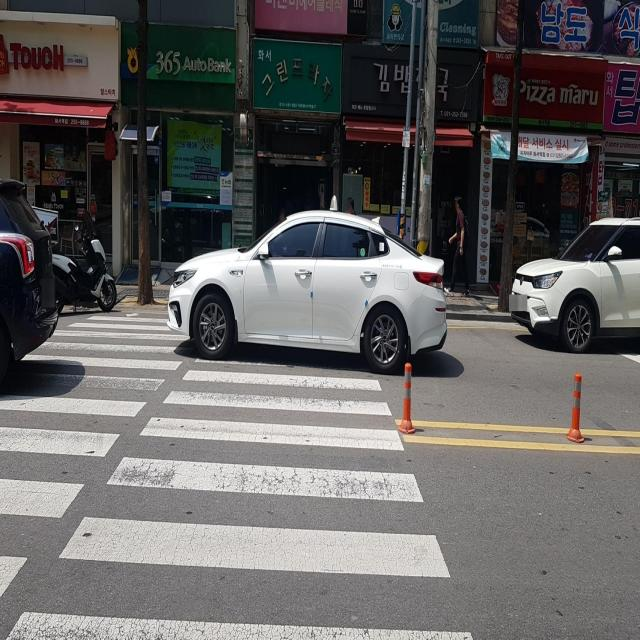횡단보도: (0, 312, 477, 640)
